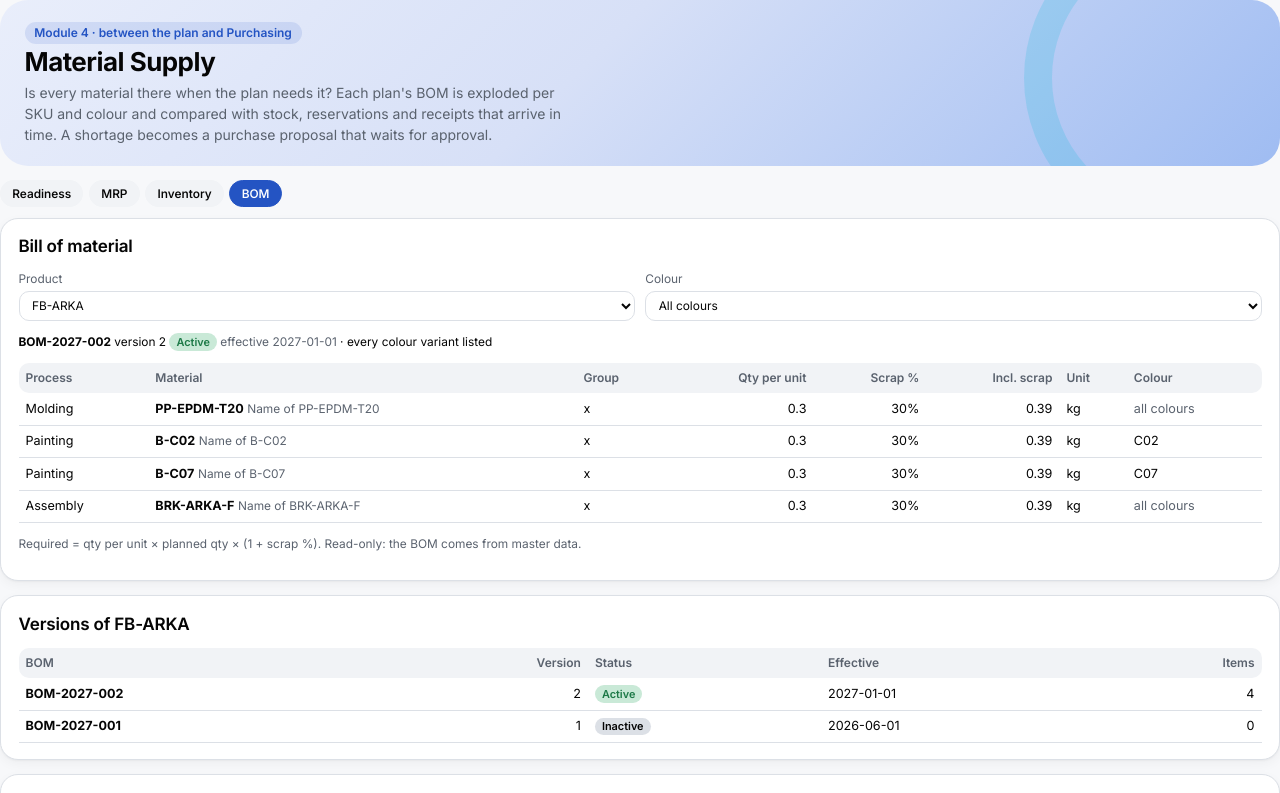
BOM: picks SKU and colour, shows the active items for that colour and the versions
Expected: the text "BOM-2027-002" is shown 2 times, [18,334,111,349]; [26,686,123,701]
Expected: the text "B-C02" is shown, [155,433,195,448]
Select "C07" in the dropdown named "BOM colour" at (953, 306), box [645,291,1262,321]
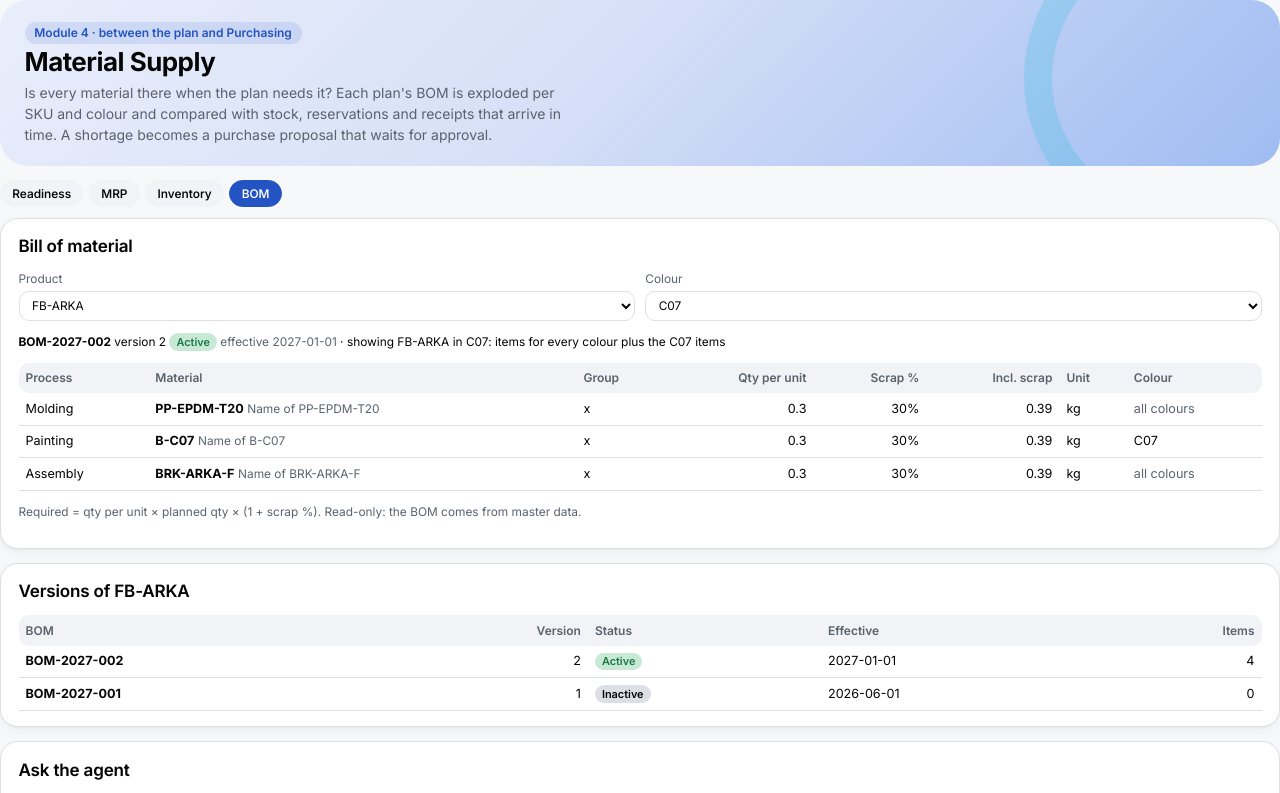
Expected: the text "B-C02" is gone
Expected: the text "B-C07" is shown, [155,433,194,448]
Expected: the text "all colours" is shown 2 times, [1134,401,1195,416]; [1134,466,1195,481]
Select "RB-ARKA" in the dropdown named "BOM product" at (327, 306), box [18,291,635,321]
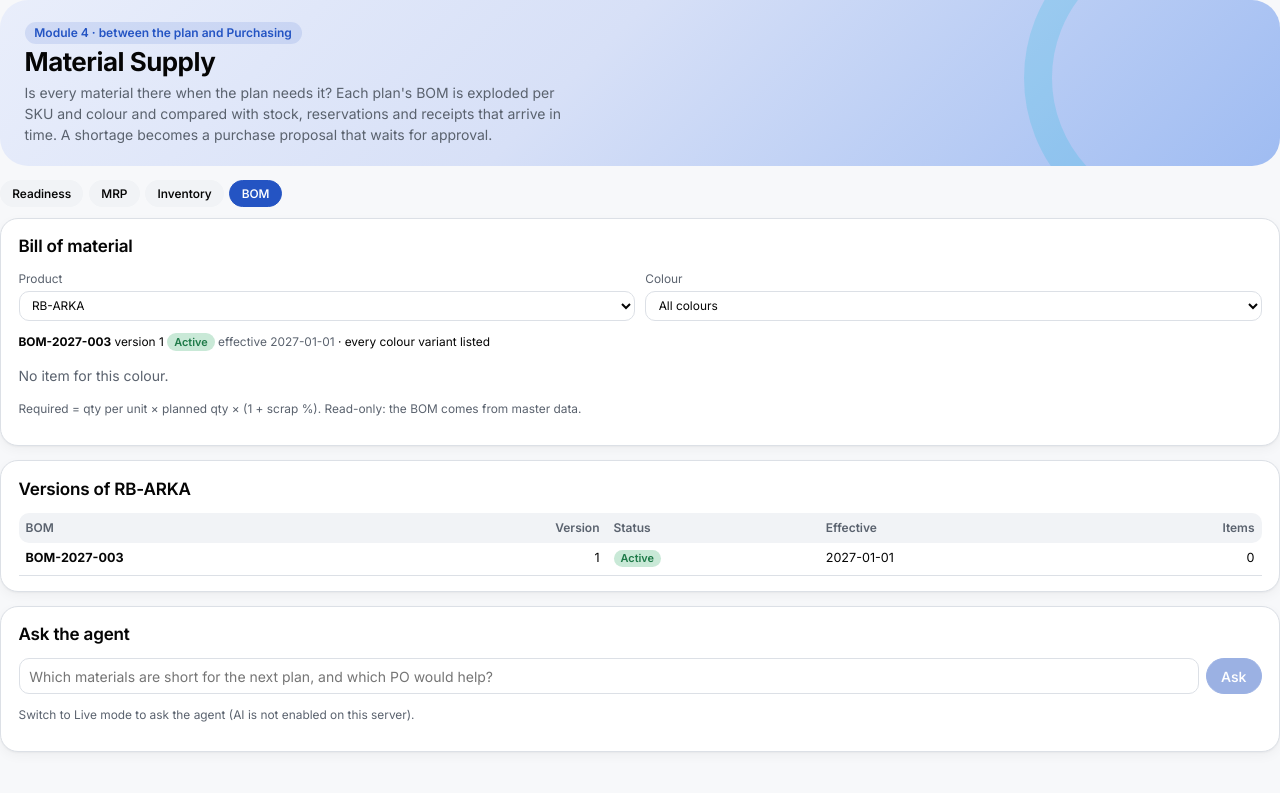
Expected: the heading "Versions of RB-ARKA" is shown, [18,476,191,502]
